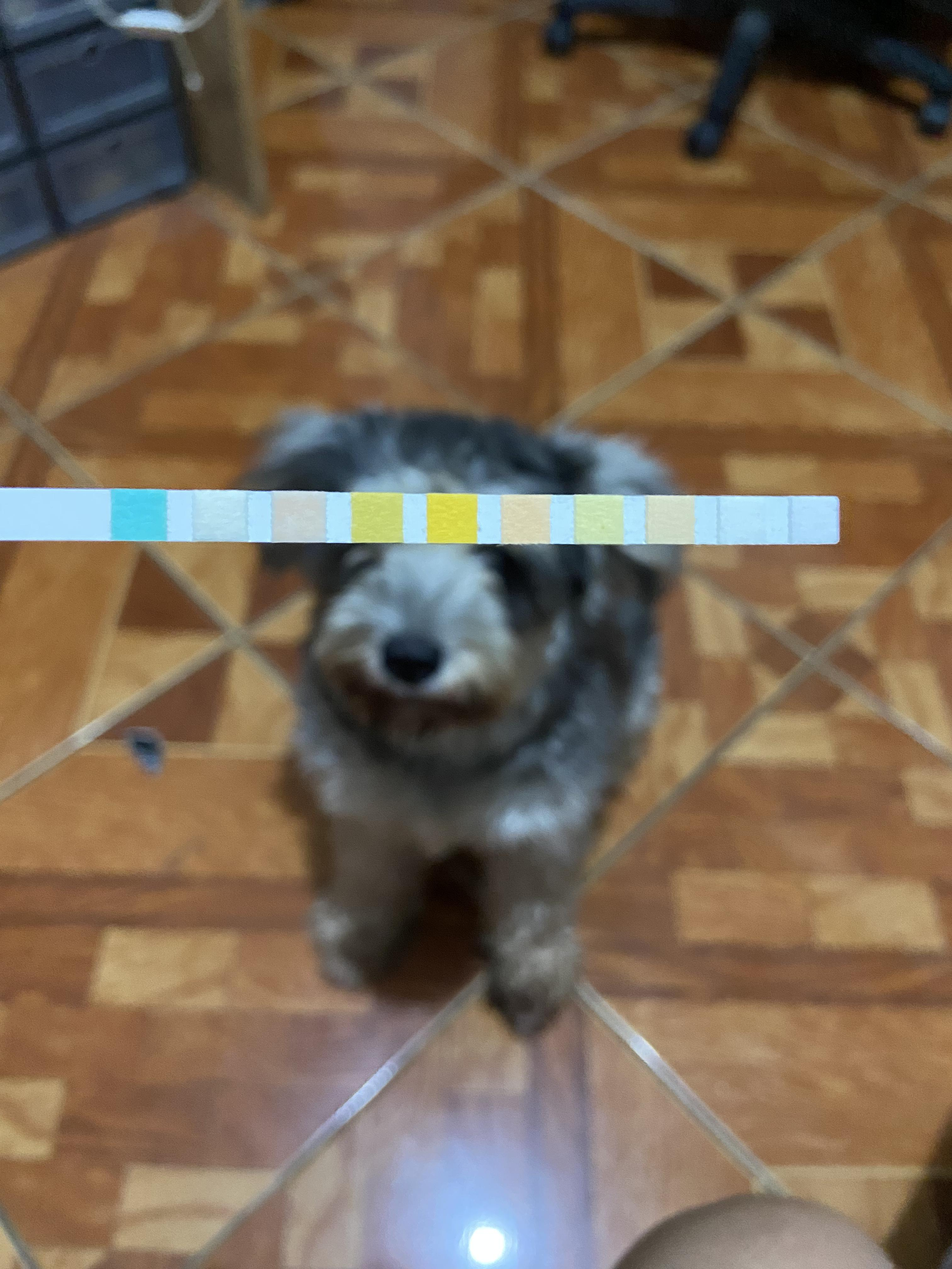Bilirubin: (193, 490, 247, 542)
Blood: (427, 494, 476, 544)
Glucose: (112, 489, 167, 541)
Ketone: (273, 492, 325, 543)
Leukocytes: (791, 497, 839, 544)
Nitrite: (720, 497, 765, 544)
Protein: (575, 496, 623, 544)
SpGravity: (353, 492, 402, 544)
Urobilinogen: (647, 496, 695, 545)
pH: (502, 495, 550, 544)
strip: (0, 489, 840, 545)
